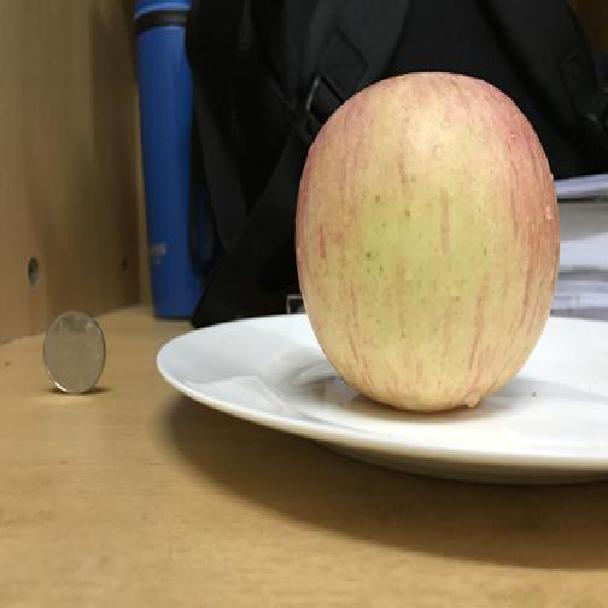apple: (294, 71, 564, 413)
